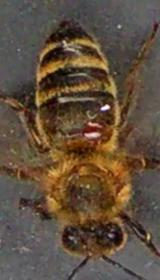varroa_mite: (76, 116, 113, 146)
